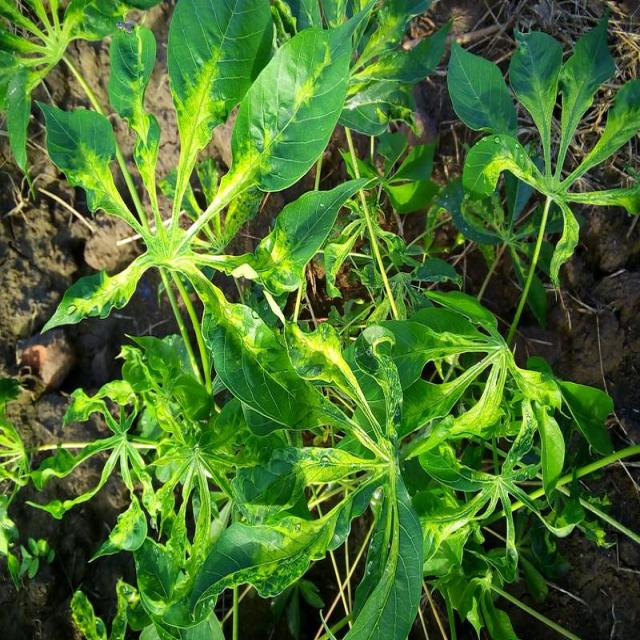cassava leaf: (5, 1, 637, 637)
